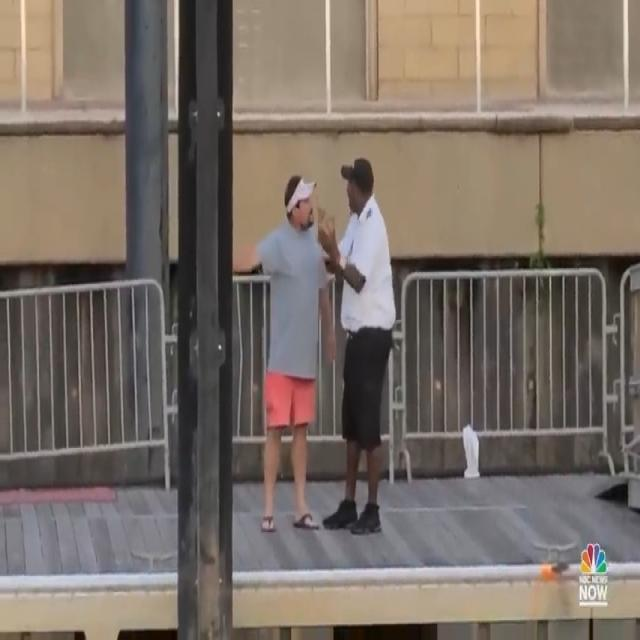non-fight: (235, 158, 398, 541)
